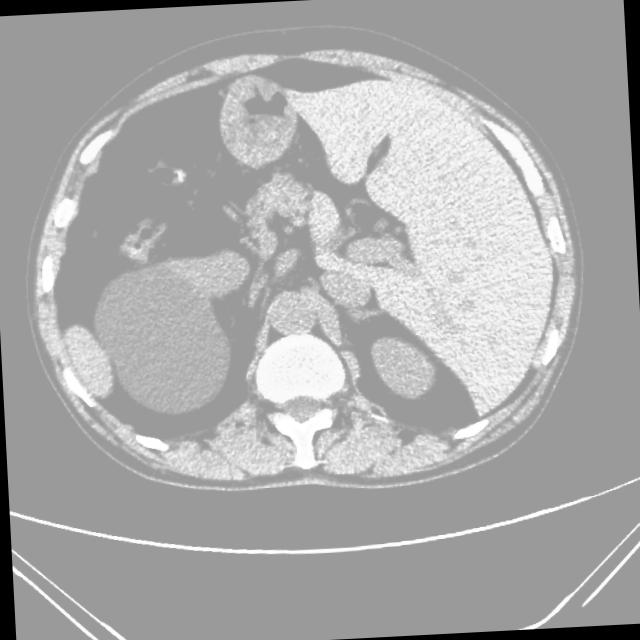cysts: (17, 27, 592, 504)
